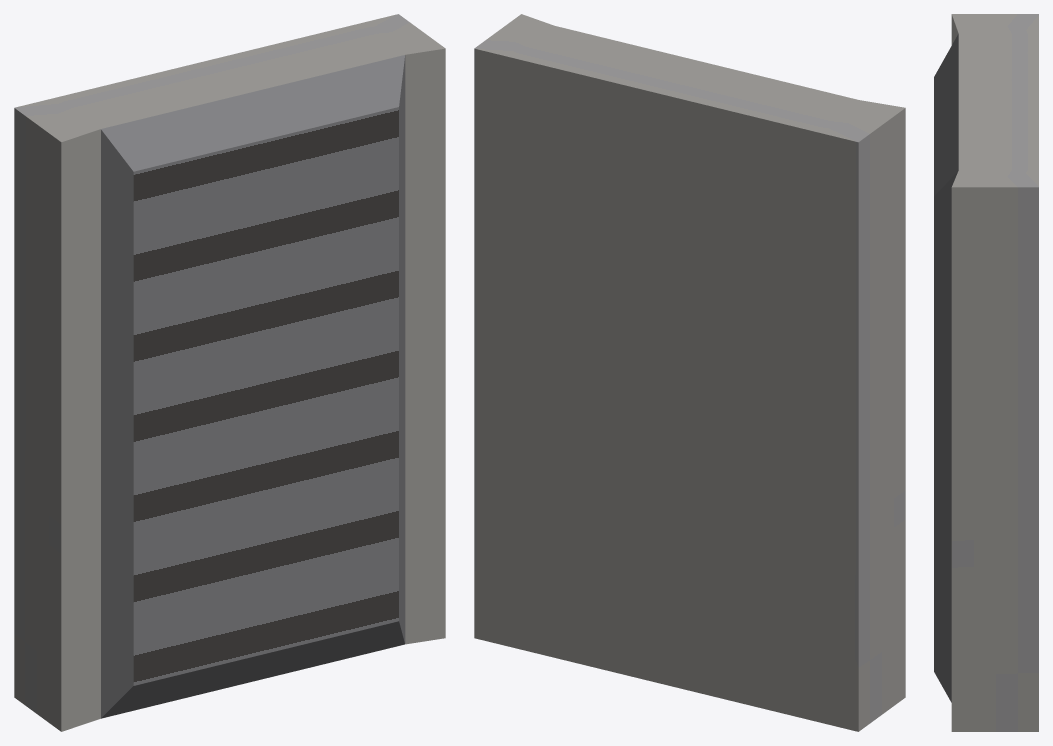
The model's file is shutter-door-exp.fbx.
3 renders of one model, left to right at view 1: azimuth 30°, elevation 25°; view 2: azimuth 150°, elevation 25°; view 3: azimuth 270°, elevation 25°, orthographic. The views are drawn at different scales.
Parts seen in each view (by area): view 1: pCube1; view 2: pCube1; view 3: pCube1.
Part boxes in pixels (<box>): pCube1: <box>14,14,445,731</box>; pCube1: <box>474,14,905,731</box>; pCube1: <box>934,14,1038,731</box>.
Bounding box in the file's own units: 570 × 835 × 146.
Materials: 1 (1 with a texture image).
